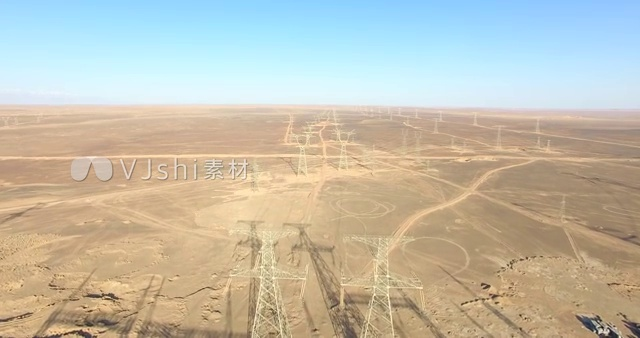tower_body: (223, 223, 310, 338), (340, 226, 423, 338), (288, 130, 319, 180), (330, 126, 359, 173)
tower_foot: (361, 312, 396, 338), (251, 316, 292, 338), (296, 162, 310, 178), (336, 158, 352, 170)
tower_head: (344, 230, 418, 251), (226, 226, 305, 245), (290, 133, 314, 148), (332, 129, 357, 143)
